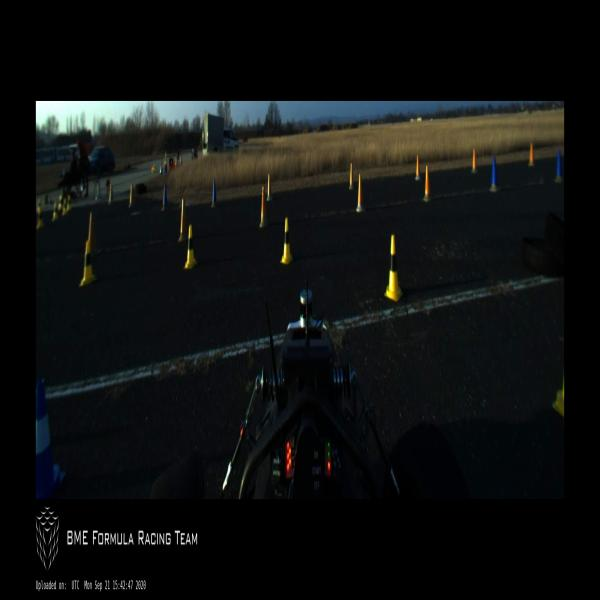blue_cone: (36, 378, 65, 498)
unknown_cone: (178, 198, 188, 242), (259, 187, 269, 227), (356, 174, 365, 213), (422, 165, 431, 202), (554, 150, 563, 182), (490, 157, 498, 192), (88, 212, 95, 249), (161, 184, 168, 211), (267, 172, 273, 202), (211, 179, 217, 208), (471, 149, 478, 173), (528, 142, 535, 166), (415, 154, 421, 180), (128, 183, 134, 208), (349, 162, 354, 190), (108, 183, 114, 205), (160, 161, 162, 174)
yellow_cone: (384, 235, 403, 302), (79, 240, 96, 288), (184, 225, 198, 269), (280, 218, 293, 264), (36, 208, 44, 230), (52, 202, 58, 222), (67, 195, 71, 210), (59, 195, 63, 210), (63, 200, 66, 216), (164, 155, 167, 165), (38, 198, 40, 208), (153, 163, 155, 172)
